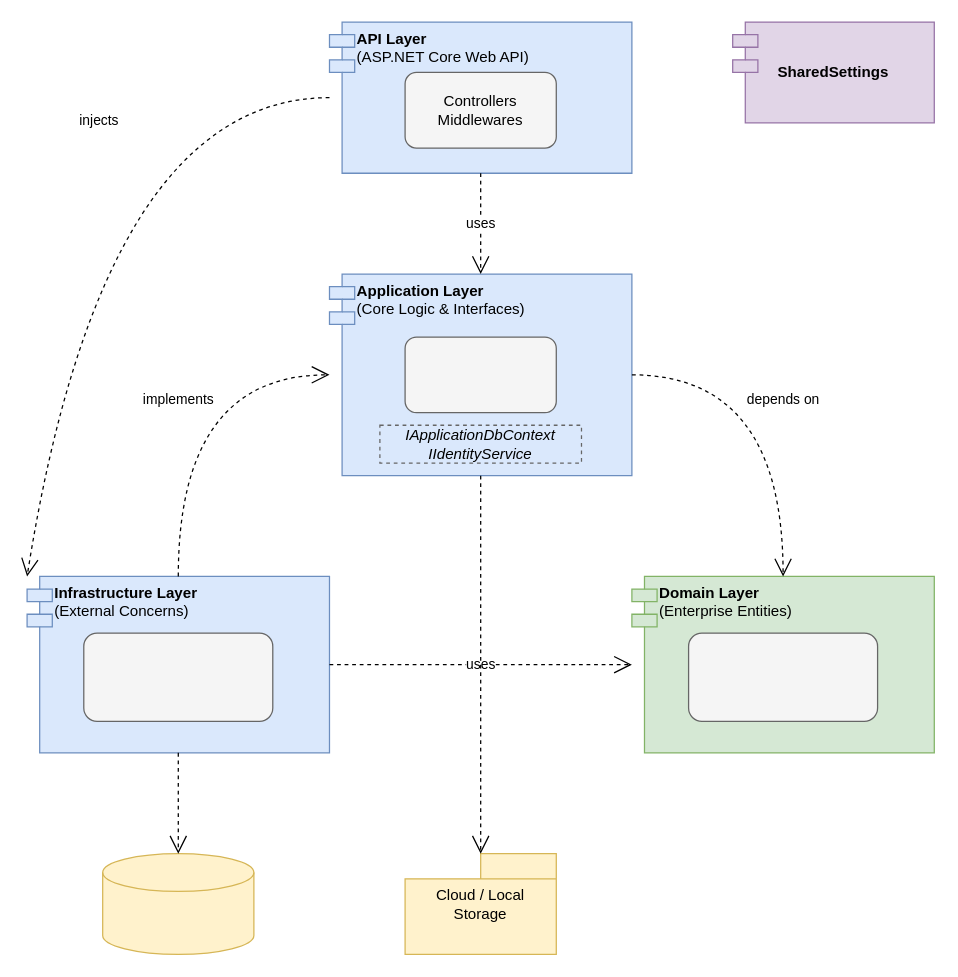
This 958x977 diagram has some shape labels left out. The shapes that lost their labels are listed below. From the top down, each one's centre as x and y in pixels, then its label:
(x=480, y=374): CQRS Handlers Validators / DTOs
(x=178, y=676): Persistence (EF Core) Auth (Identity) File Storage
(x=782, y=676): Entities (User, Post, etc.) Domain Errors
(x=177, y=903): SQL Server Database
